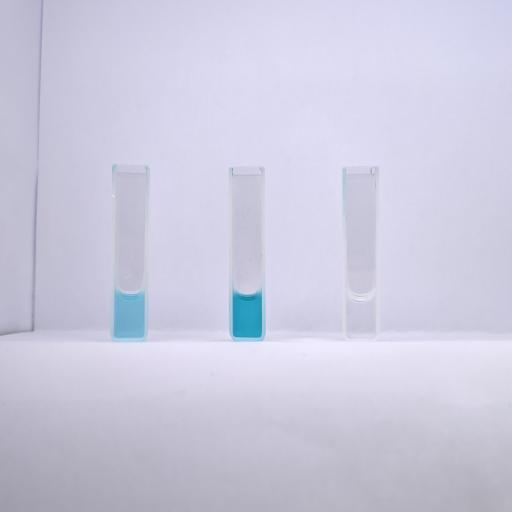cuvette: (108, 161, 152, 343), (227, 164, 268, 342), (340, 166, 380, 342)
liquid: (114, 290, 144, 338), (232, 292, 262, 337), (347, 294, 375, 338)
